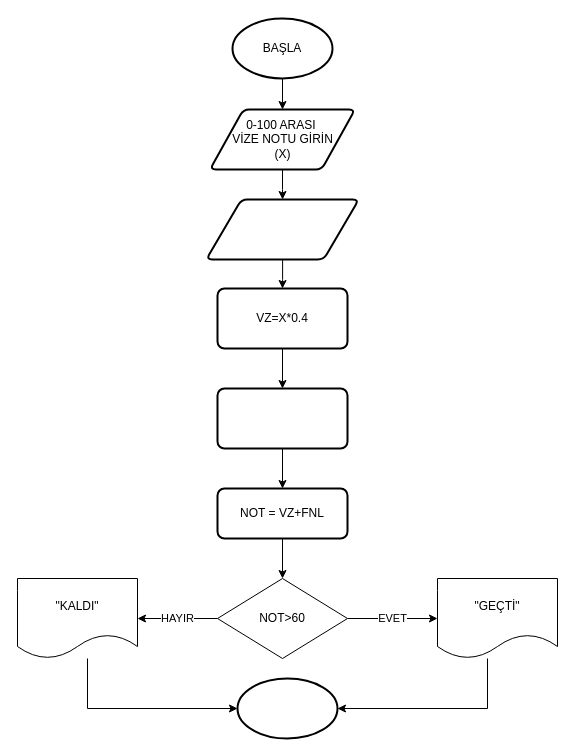
The diagram is 575 pixels wide and 756 high, and some of its shapes have lost their labels. Each missing label, with the centre of its shape:
"0-100 ARASI FİNAL NOTU GİRİN (Y)" belongs at [282,229].
"BİTİR" belongs at [287,708].
"FNL=Y*0.6" belongs at [282,418].
